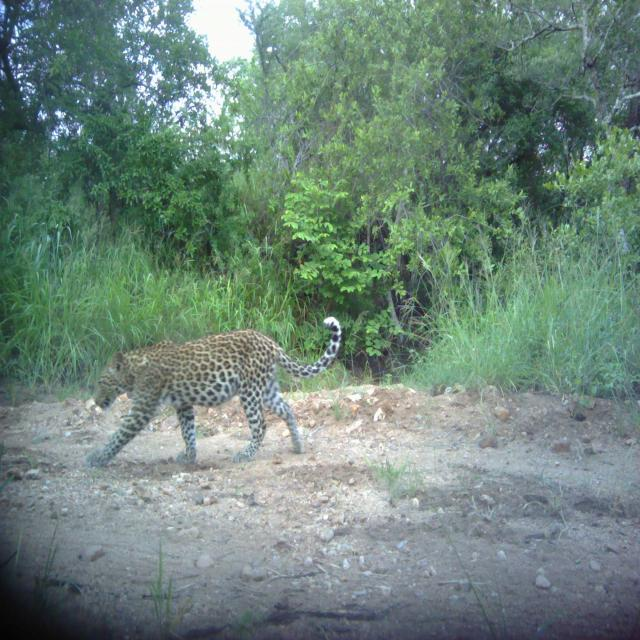Leopard: (87, 310, 348, 472)
